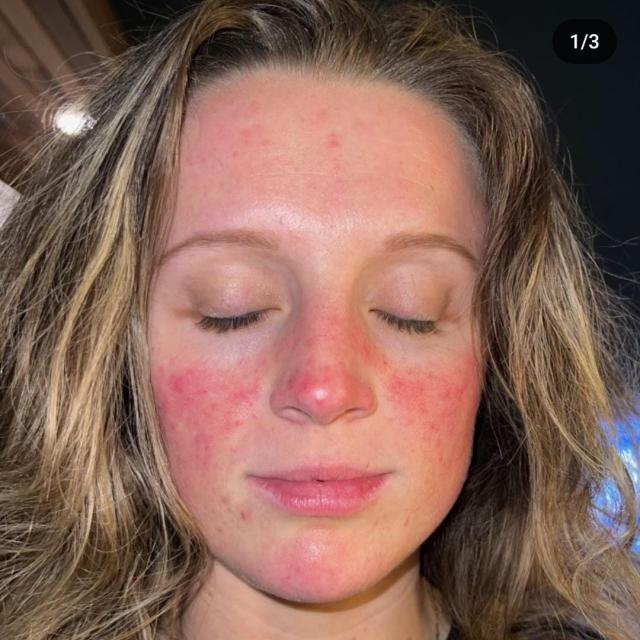Rosacea: (155, 355, 483, 452)
